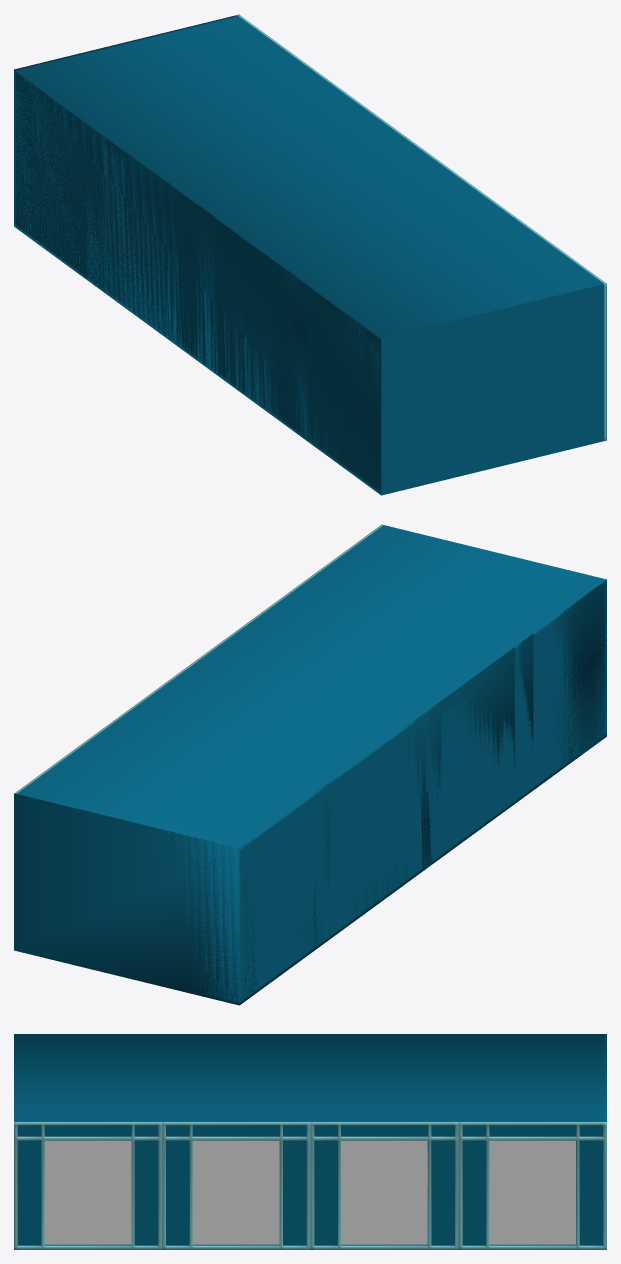
The model's file is Kat-1.fbx.
3 views of the same model, one above another, from view 1: azimuth 30°, elevation 25°; view 2: azimuth 150°, elevation 25°; view 3: azimuth 270°, elevation 25° (orthographic). The views are drawn at different scales.
Visible parts, largest first — view 1: Bina-1; view 2: Bina-1; view 3: Bina-1, Bina Cam-1.
Part boxes in pixels (left/top/right/bottom): Bina-1: left=14, top=14, right=606, bottom=495; Bina-1: left=14, top=524, right=606, bottom=1005; Bina-1: left=14, top=1034, right=606, bottom=1249; Bina Cam-1: left=44, top=1140, right=575, bottom=1244.
Bounding box in the file's own units: 202 × 135 × 571.
